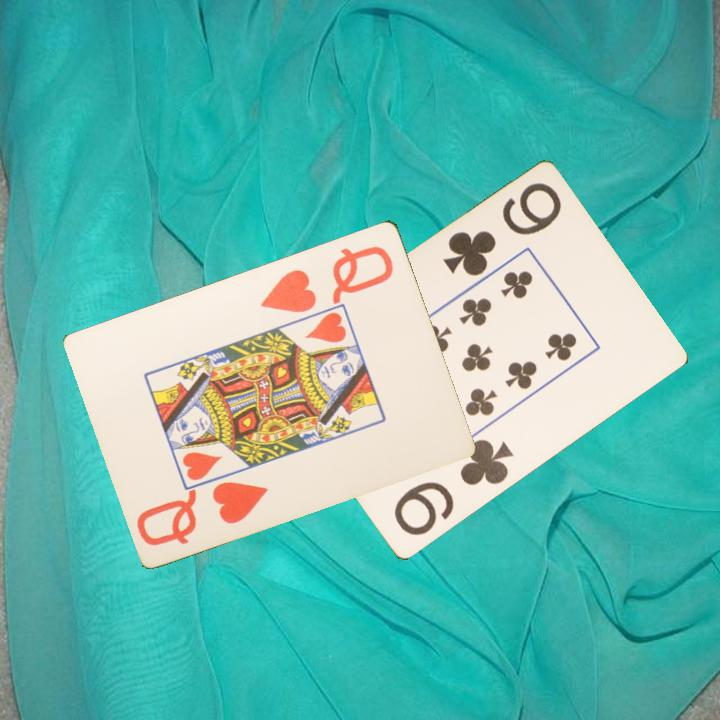9c: (390, 435, 517, 540), (439, 179, 565, 280)
Qh: (257, 241, 397, 316), (133, 477, 272, 548)
